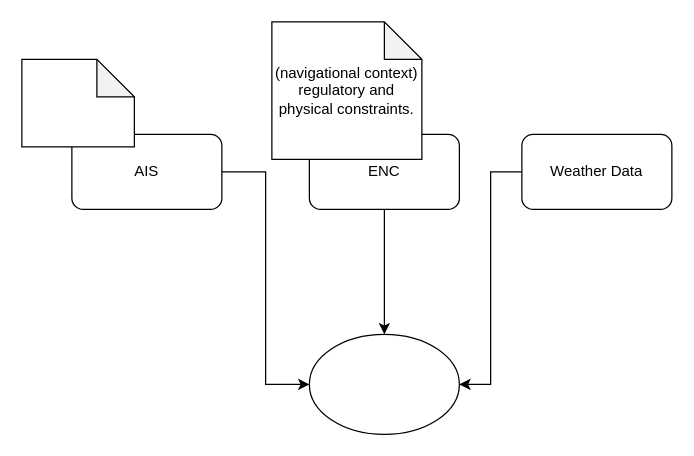
This 694x456 diagram has some shape labels left out. Here are the shapes that lost their labels. From the top down, the centre of each, then its label:
(x=77, y=102): (vessel motion)
(x=383, y=383): Anomaly Detection
